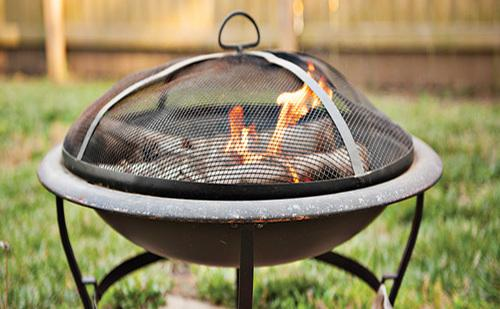fire: (232, 75, 341, 190)
